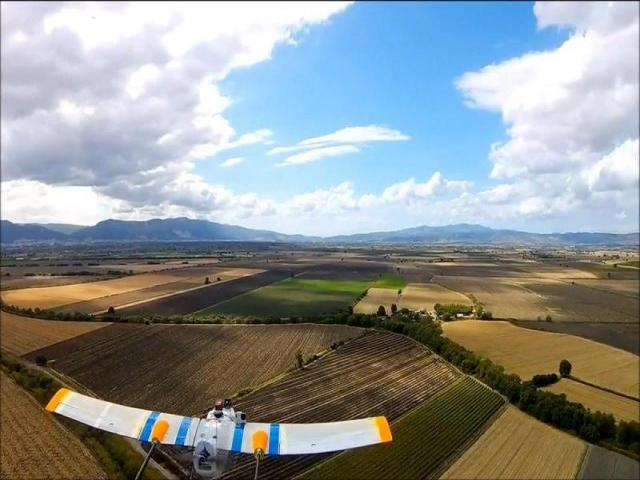hedef: (42, 382, 396, 480)
